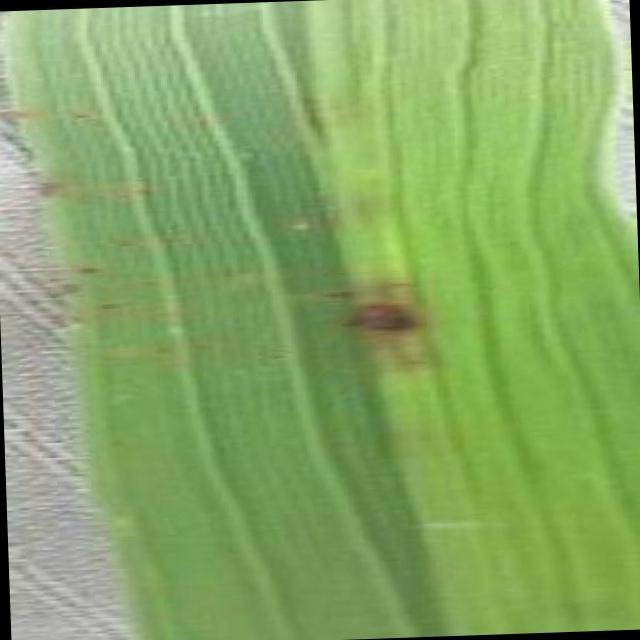Rice_Brownspot: (330, 284, 426, 346), (26, 164, 70, 207), (318, 278, 358, 306), (144, 336, 180, 362), (72, 254, 105, 280), (93, 292, 124, 316), (136, 270, 164, 292), (9, 102, 34, 126), (66, 104, 94, 125), (127, 178, 156, 198), (112, 232, 136, 248)
